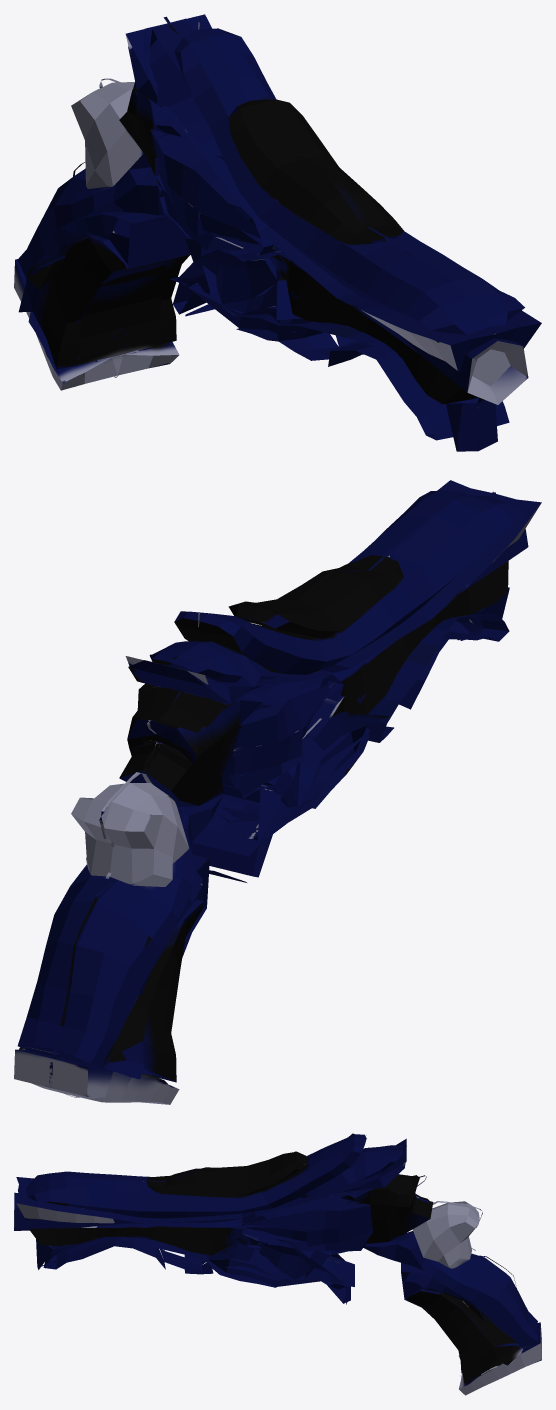
Rendered from pistol_joined.fbx.
The picture shows the model from 3 angles, top to bottom: view 1: azimuth 30°, elevation 25°; view 2: azimuth 150°, elevation 25°; view 3: azimuth 270°, elevation 25°; orthographic projection. The views are drawn at different scales.
Visible parts, largest first — view 1: Retopo_Purple; view 2: Retopo_Purple; view 3: Retopo_Purple.
Part boxes in pixels (x1=…): Retopo_Purple: x1=14, y1=14, x2=541, y2=451; Retopo_Purple: x1=14, y1=480, x2=541, y2=1104; Retopo_Purple: x1=14, y1=1133, x2=541, y2=1395.
Size of the model in its own units: 74.74 by 245 by 477.
Materials: 1 (1 with a texture image).
